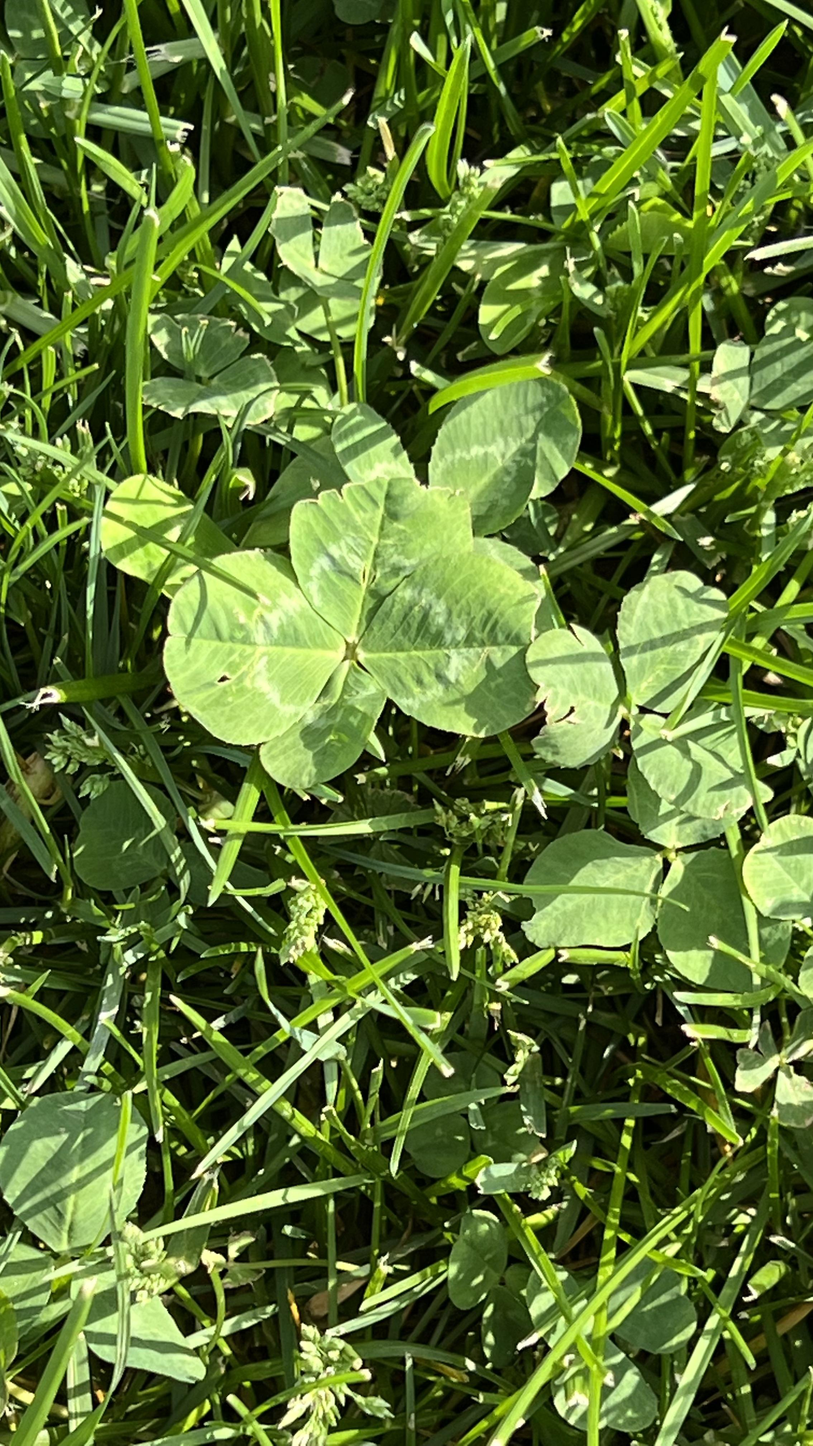4-Leaf-Clovers: (274, 459, 444, 1146)
